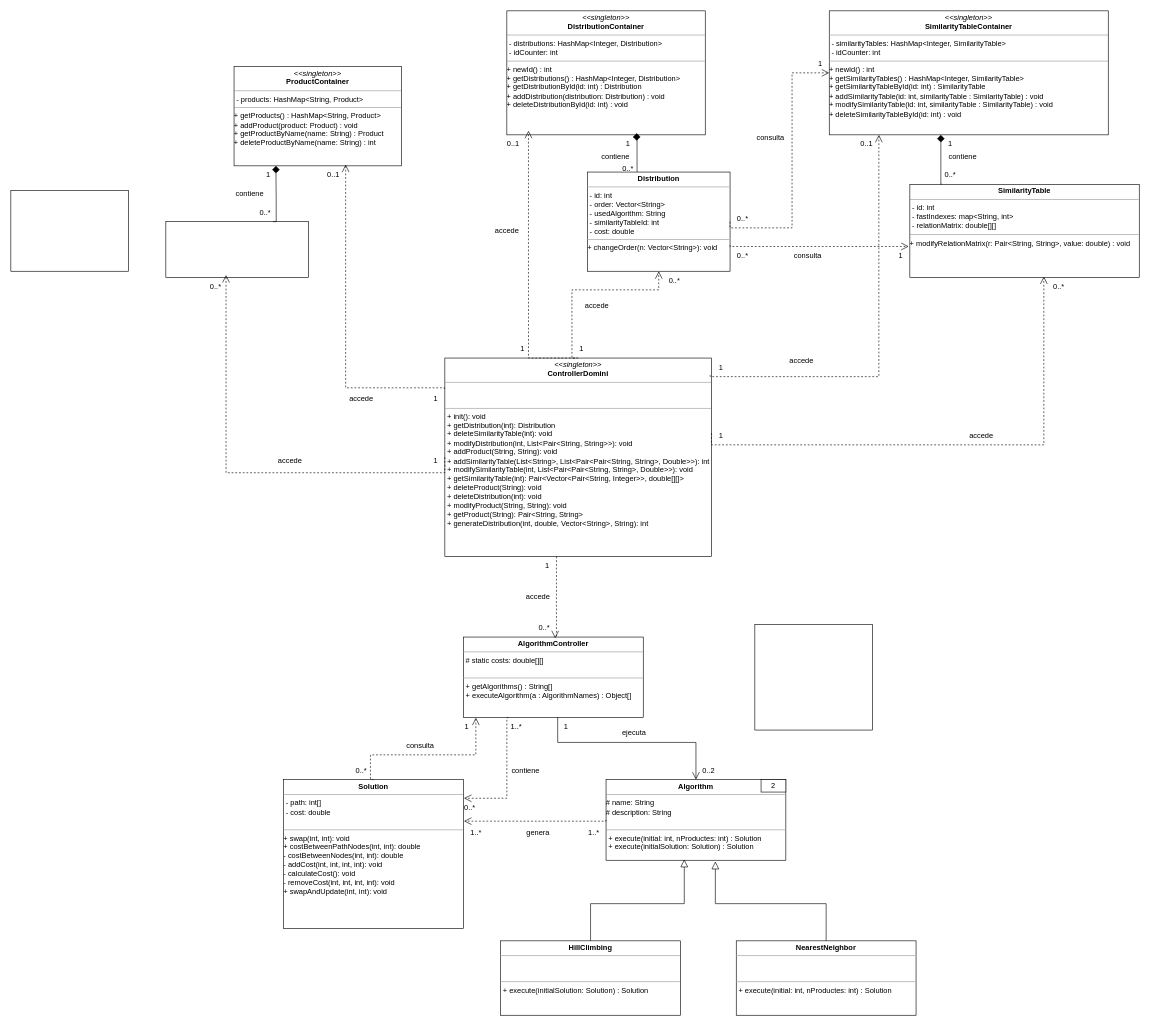
The diagram is 1150 pixels wide and 1026 high, and some of its shapes have lost their labels. The shapes that lost their labels are listed below. From the top down, each one's centre as x and y in pixels, then its label:
At (x=69, y=230): "<<enumeration>> ProductType Fruita Verdura Peix Carn".
At (x=236, y=249): "Product - name: String - type: ProductType".
At (x=813, y=677): "<<enumeration>> AlgorithmNames NN HC - text: String + toString() : String".
